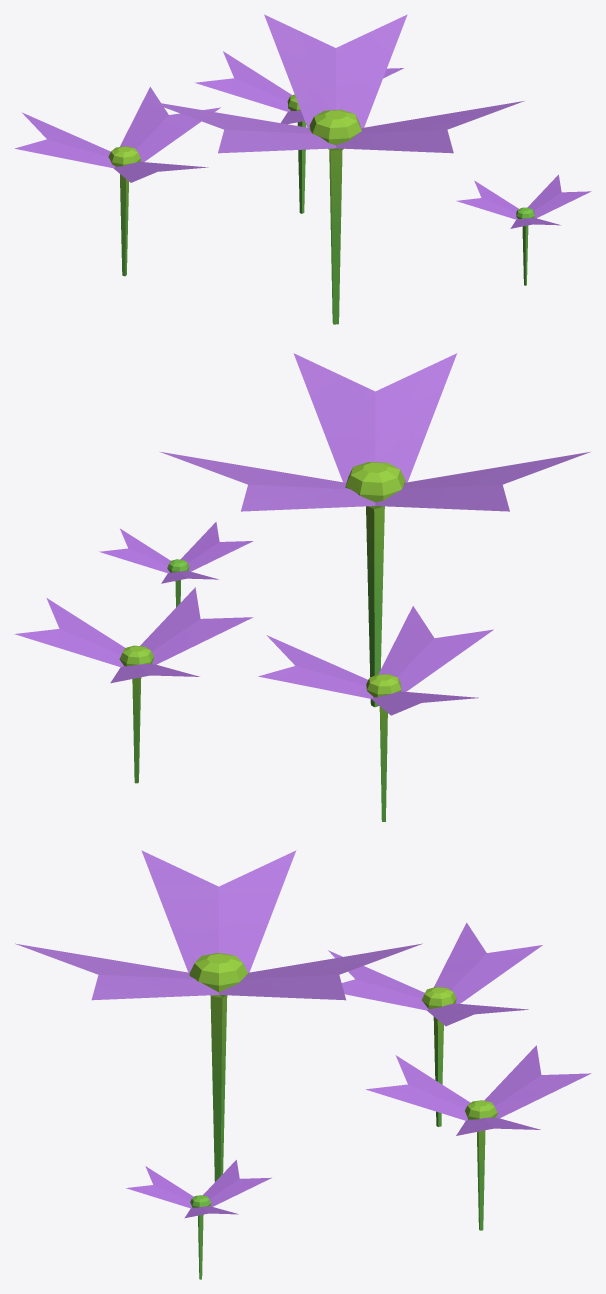
The model's file is Flower_3.fbx.
3 views of the same model, one above another, from view 1: azimuth 30°, elevation 25°; view 2: azimuth 150°, elevation 25°; view 3: azimuth 270°, elevation 25° (orthographic). The views are drawn at different scales.
Parts seen in each view (by area): view 1: Flowers_3; view 2: Flowers_3; view 3: Flowers_3.
Part boxes in pixels (bbox=[...]): Flowers_3: bbox=[15, 14, 591, 324]; Flowers_3: bbox=[14, 353, 589, 821]; Flowers_3: bbox=[15, 850, 591, 1279].
Size of the model in its own units: 0.2877 by 0.2983 by 0.1437.
